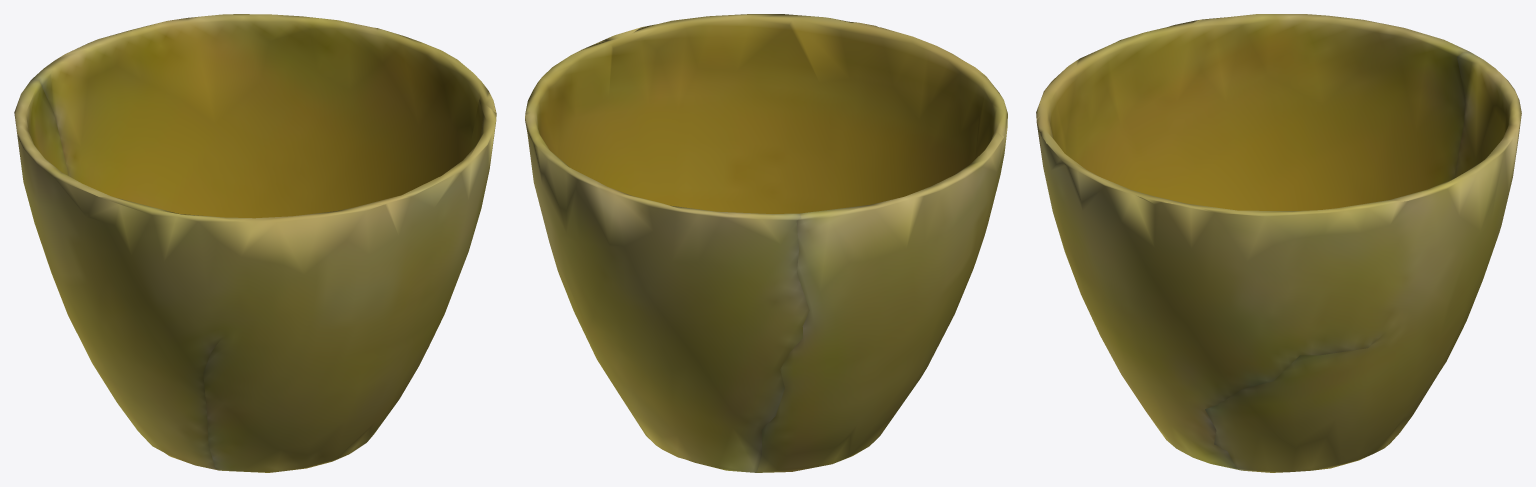
File: Ecoforms_Plant_Container_B4_Har-medium.glb
3 renders of one model, left to right at view 1: azimuth 30°, elevation 25°; view 2: azimuth 150°, elevation 25°; view 3: azimuth 270°, elevation 25°, orthographic.
Parts seen in each view (by area): view 1: Ecoforms_Plant_Container_B4_Har; view 2: Ecoforms_Plant_Container_B4_Har; view 3: Ecoforms_Plant_Container_B4_Har.
Boxes of the visible parts, x1,y1,x2,y2 form: Ecoforms_Plant_Container_B4_Har: [14, 14, 496, 472]; Ecoforms_Plant_Container_B4_Har: [525, 14, 1007, 472]; Ecoforms_Plant_Container_B4_Har: [1036, 14, 1521, 472].
Size of the model in its own units: 0.1007 by 0.0716 by 0.1009.
1 material, 1 textured.
